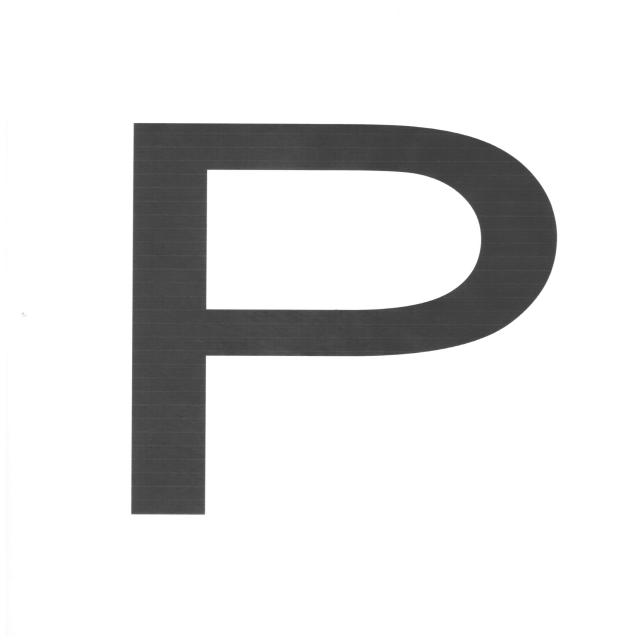p: (93, 98, 581, 547)
